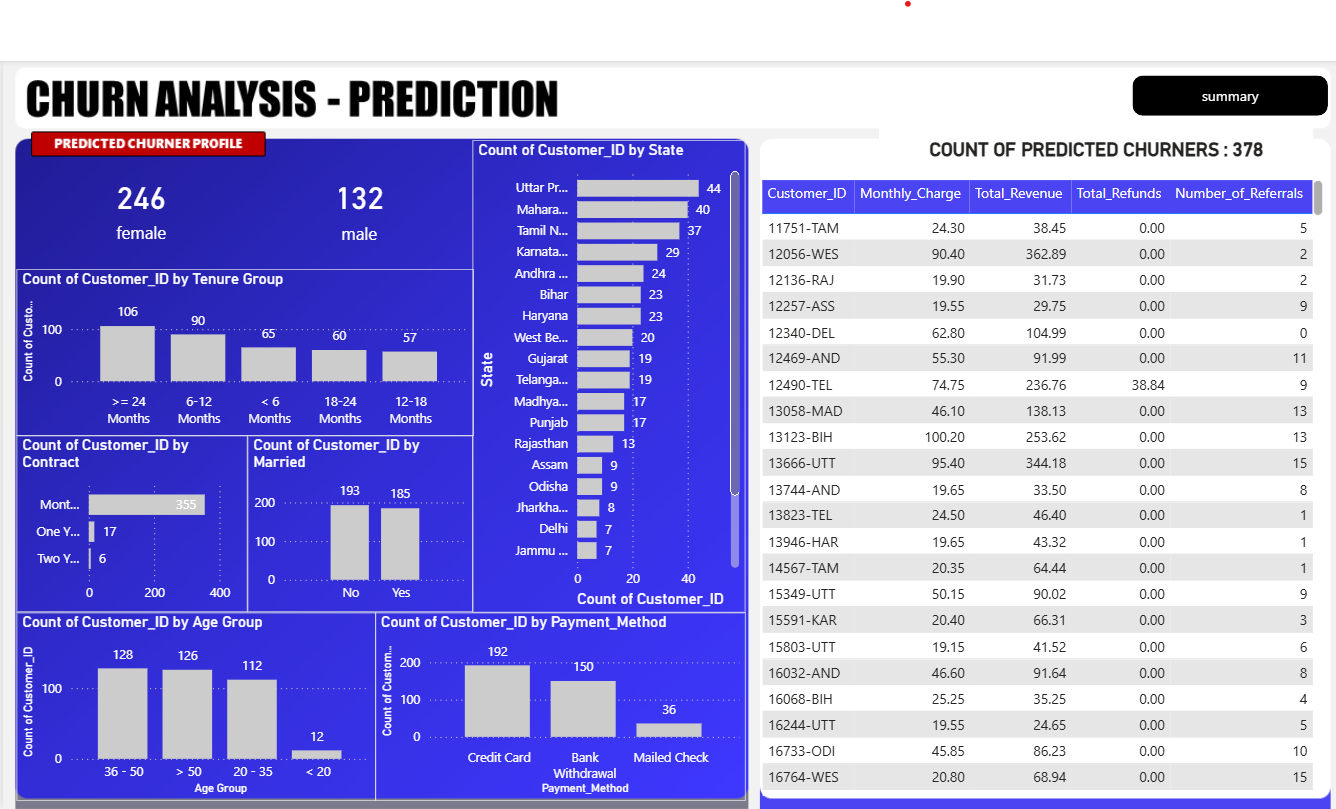

Layout of this report page (visuals, bound fields, positions):
{"tool":"powerbi","page":{"name":"churn prediction","canvas":[1280,720],"ordinal":2},"visuals":[{"type":"card","fields":{"Values":["Tbl_mesures.Title Predicted Churners"]},"box":[837.1,63.1,414.4,46.7],"z":1},{"type":"card","fields":{"Values":["Tbl_mesures.Count Predicted Churner"]},"box":[12.3,96.1,237.4,90.6],"z":2},{"type":"card","fields":{"Values":["Tbl_mesures.Count Predicted Churner"]},"box":[249.7,97.4,181.1,89.2],"z":3},{"type":"clusteredColumnChart","fields":{"Category":["mapping_AgeGrp.Age Group "],"Y":["CountNonNull(Predictions.Customer_ID)"]},"box":[12.3,528.3,343.1,179.8],"z":4},{"type":"tableEx","fields":{"Values":["Predictions.Customer_ID","Predictions.Monthly_Charge","Predictions.Total_Revenue","Predictions.Total_Refunds","Predictions.Number_of_Referrals"]},"box":[719,109.8,546.1,598.3],"z":5},{"type":"clusteredColumnChart","fields":{"Category":["Predictions.Married"],"Y":["CountNonNull(Predictions.Customer_ID)"]},"box":[233.3,359.5,215.4,168.8],"z":6},{"type":"clusteredColumnChart","fields":{"Category":["mapping_tenuregrp. Tenure Group "],"Y":["CountNonNull(Predictions.Customer_ID)"]},"box":[12.3,200.3,436.4,159.2],"z":7},{"type":"clusteredColumnChart","fields":{"Category":["Predictions.Payment_Method"],"Y":["CountNonNull(Predictions.Customer_ID)"]},"box":[355.4,528.3,354,179.8],"z":8},{"type":"clusteredBarChart","fields":{"Category":["Predictions.Contract"],"Y":["CountNonNull(Predictions.Customer_ID)"]},"box":[12.3,359.5,220.9,168.8],"z":9},{"type":"clusteredBarChart","fields":{"Category":["Predictions.State"],"Y":["CountNonNull(Predictions.Customer_ID)"]},"box":[448.7,76.8,260.7,451.5],"z":10},{"type":"shape","box":[1078.6,15.1,186.6,38.4],"z":11}]}

Visuals, with their boxes on the page's 1280x720 design canvas (x1, y1, x2, y2). These are canvas units, not pixel positions in the 1336x809 screenshot, which may show the page scaled, cropped or inside an application window:
card - Tbl_mesures.Title Predicted Churners: 837:63:1252:110
card - Tbl_mesures.Count Predicted Churner: 12:96:250:187
card - Tbl_mesures.Count Predicted Churner: 250:97:431:187
clusteredColumnChart - mapping_AgeGrp.Age Group  x CountNonNull(Predictions.Customer_ID): 12:528:355:708
tableEx - Predictions.Customer_ID x Predictions.Monthly_Charge: 719:110:1265:708
clusteredColumnChart - Predictions.Married x CountNonNull(Predictions.Customer_ID): 233:360:449:528
clusteredColumnChart - mapping_tenuregrp. Tenure Group  x CountNonNull(Predictions.Customer_ID): 12:200:449:360
clusteredColumnChart - Predictions.Payment_Method x CountNonNull(Predictions.Customer_ID): 355:528:709:708
clusteredBarChart - Predictions.Contract x CountNonNull(Predictions.Customer_ID): 12:360:233:528
clusteredBarChart - Predictions.State x CountNonNull(Predictions.Customer_ID): 449:77:709:528
shape: 1079:15:1265:54
